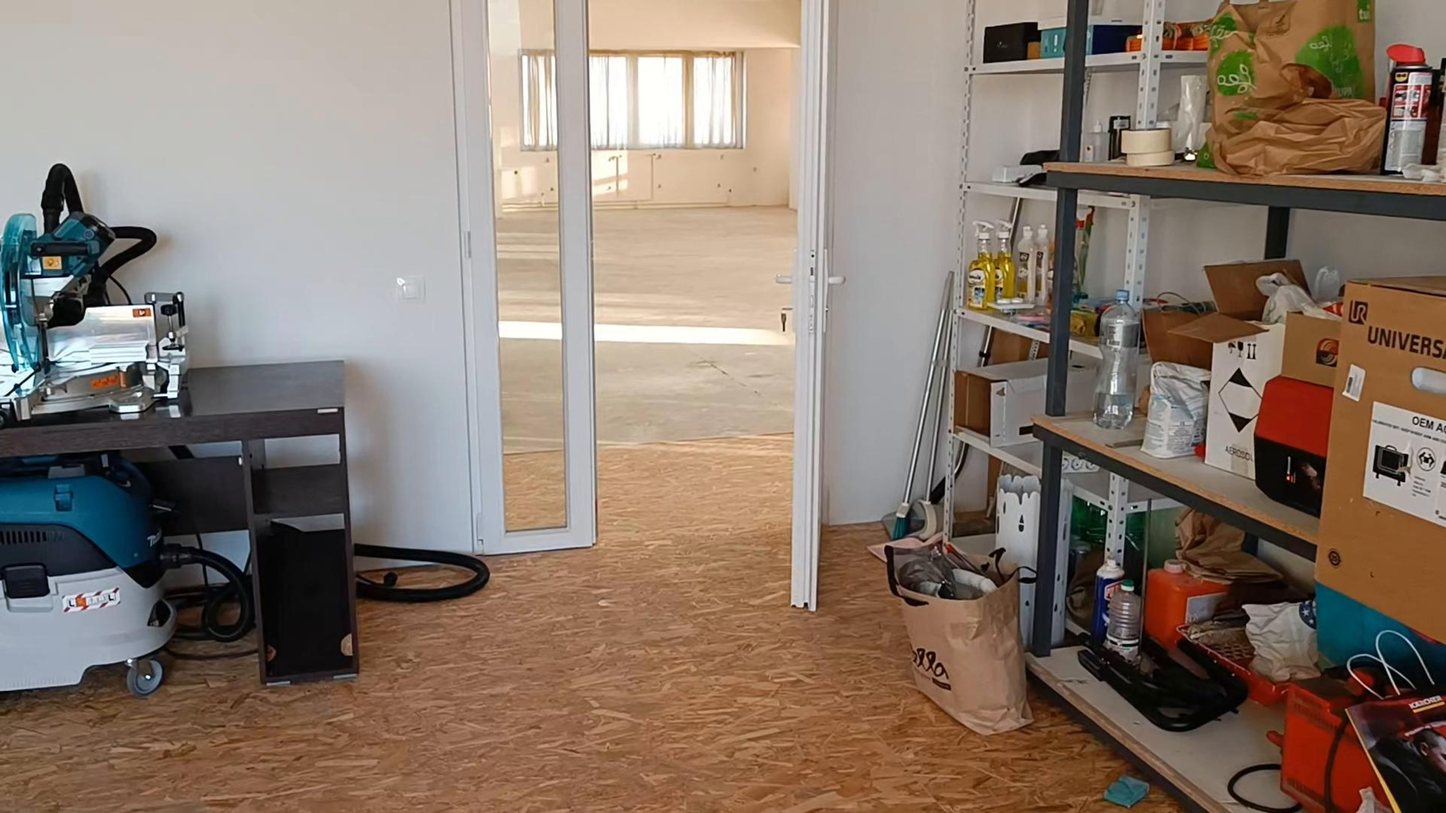floor: (0, 437, 1129, 812), (596, 207, 797, 448), (500, 215, 560, 449)
wall: (8, 1, 464, 546), (830, 5, 961, 529), (595, 0, 796, 203)
